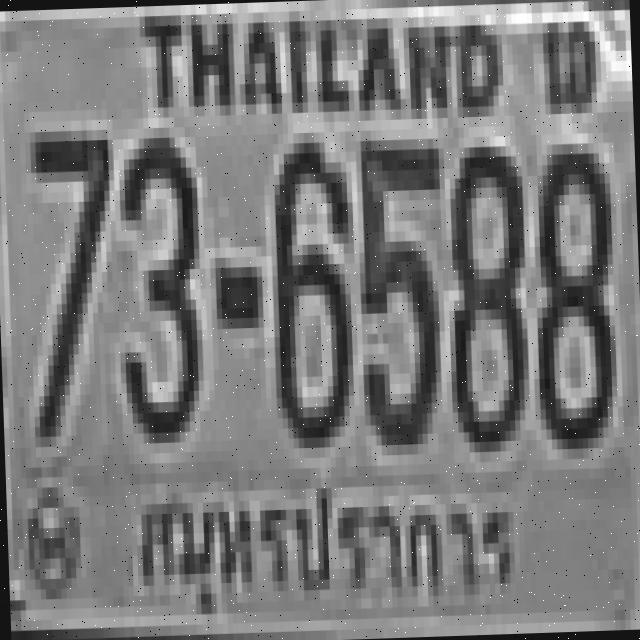3: (112, 126, 200, 434)
5: (352, 132, 446, 440)
6: (264, 131, 352, 439)
7: (24, 118, 118, 436)
8: (526, 132, 614, 440), (442, 136, 526, 442)
SamutPrakan: (132, 463, 526, 635)
